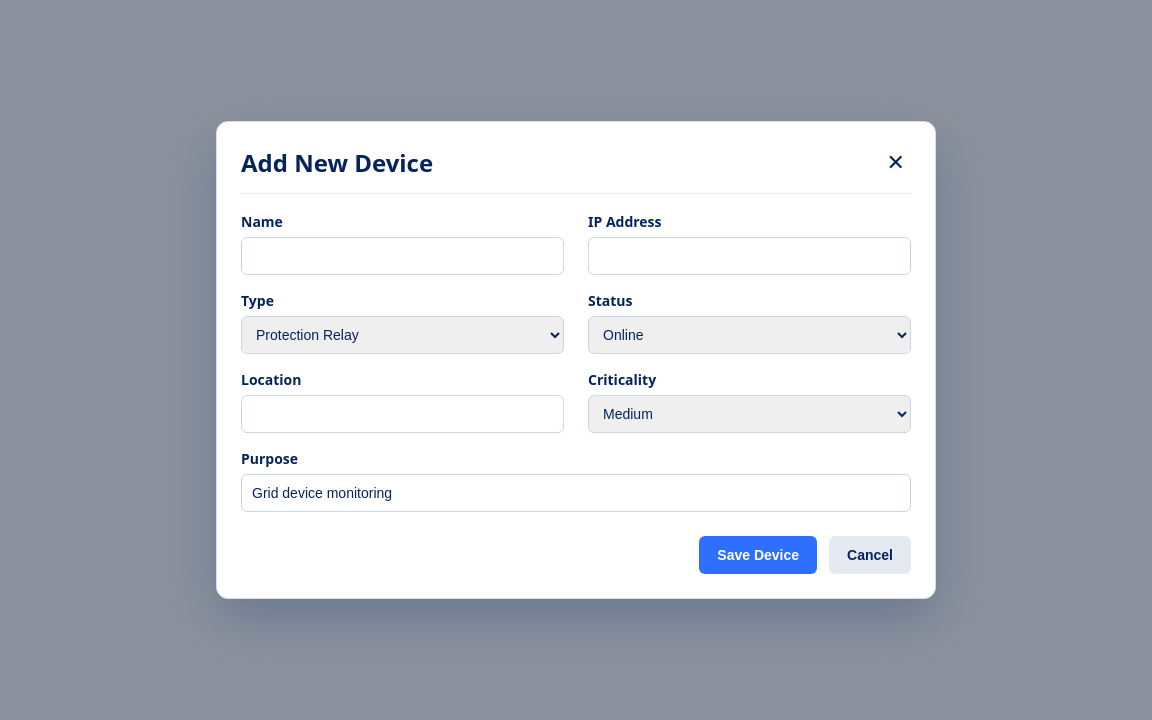
Test: shows duplicate name error in add mode
Step 1. Type "Camera 01" into the field labelled "Name" → (402, 256), box [241, 237, 564, 275]
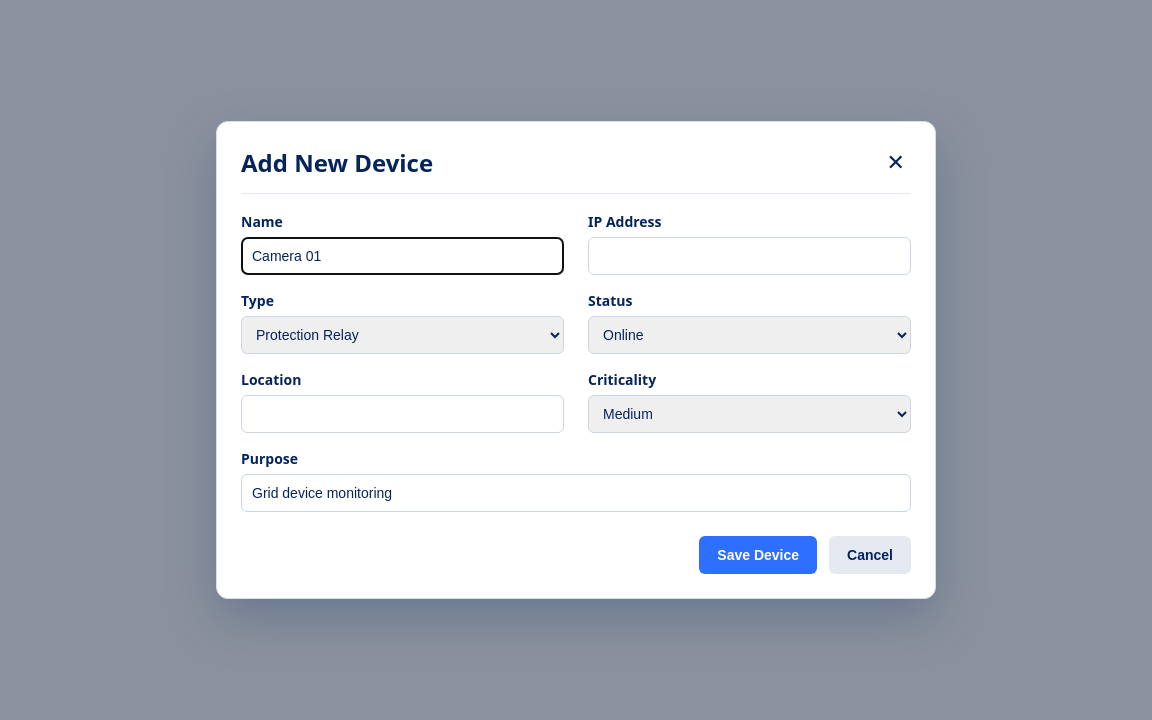
Step 2. Type "192.168.1.20" into the field labelled "IP Address" → (750, 256), box [588, 237, 911, 275]
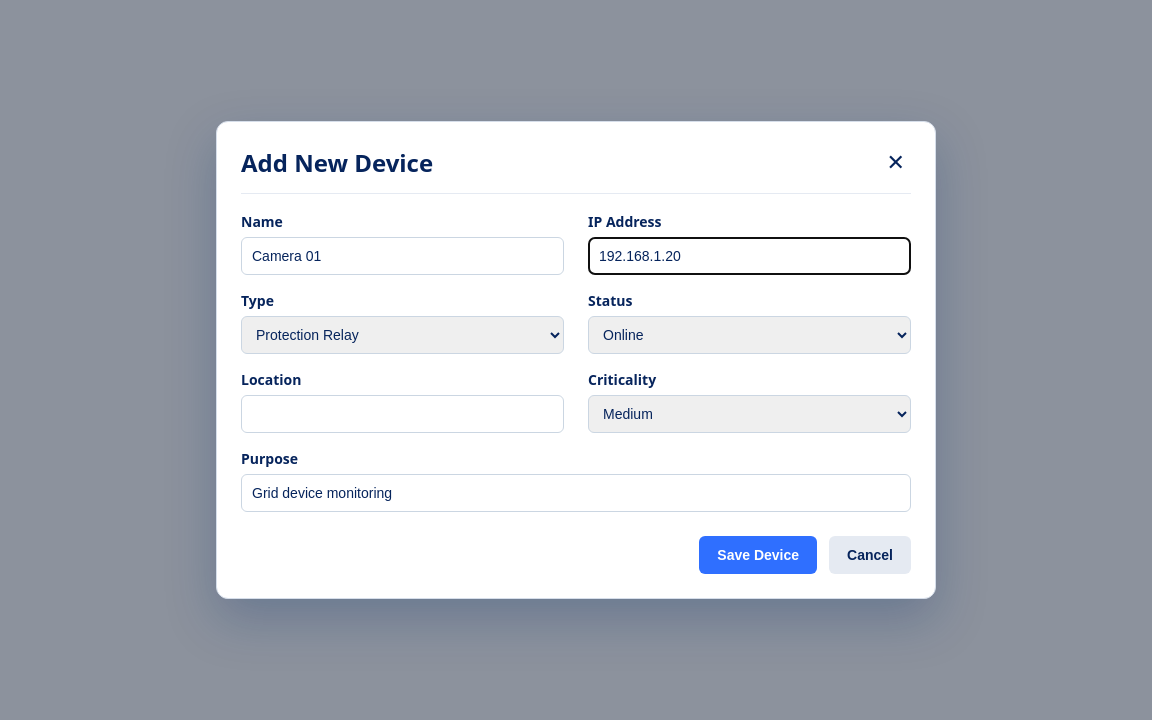
Step 3. Click the button "Save Device" → click(758, 555), box [699, 536, 817, 574]
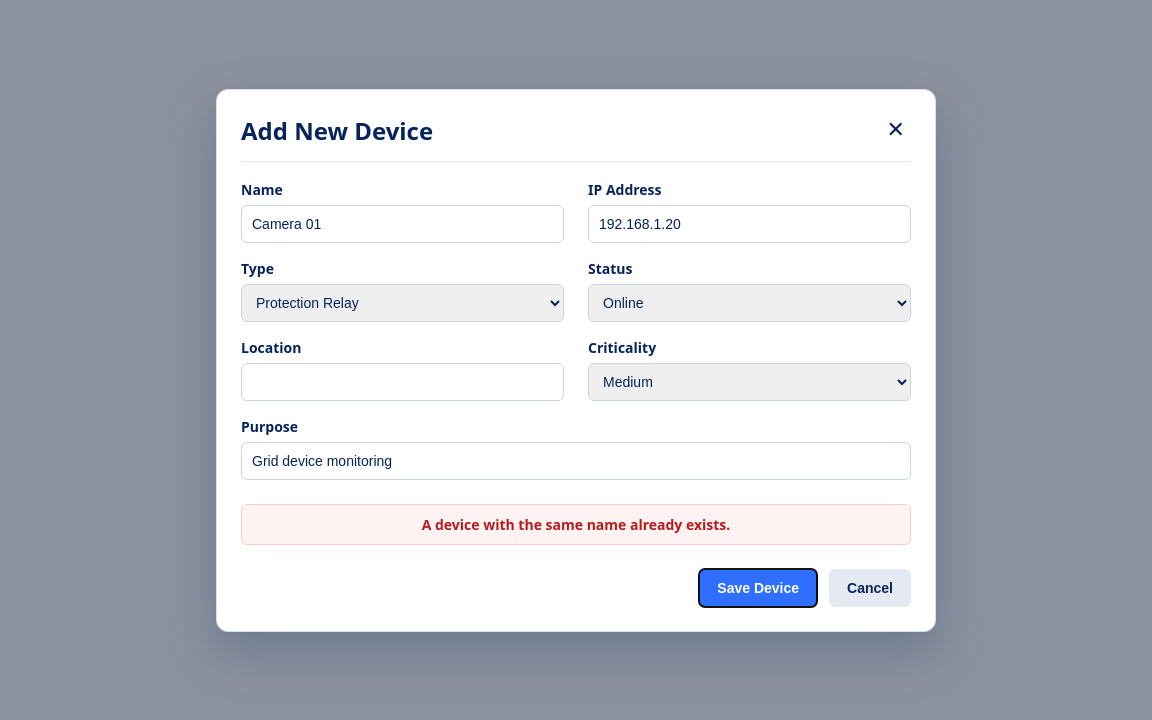
expect the text "A device with the same name already exists." is shown: met, box [241, 504, 911, 544]
